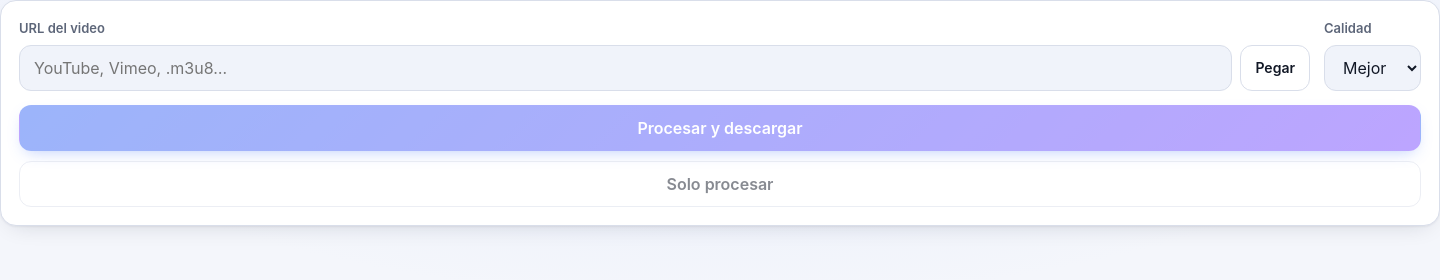
Test: JobForm › pegar y enlace de ejemplo › Pegar rellena el campo con un enlace válido
This screenshot has width=1440, height=280.
Click the button "Pegar". click: {"x": 1275, "y": 68}
box: [1240, 44, 1310, 90]
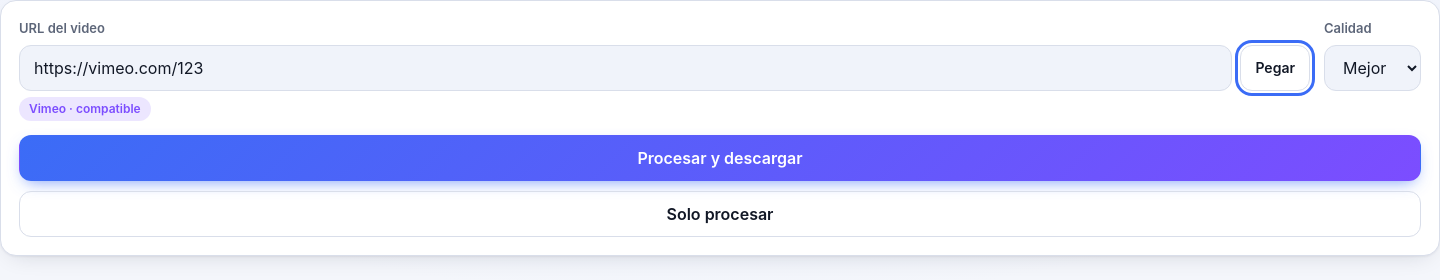
Result: the field labelled "URL del video" holds "https://vimeo.com/123" at [19, 44, 1232, 90]
